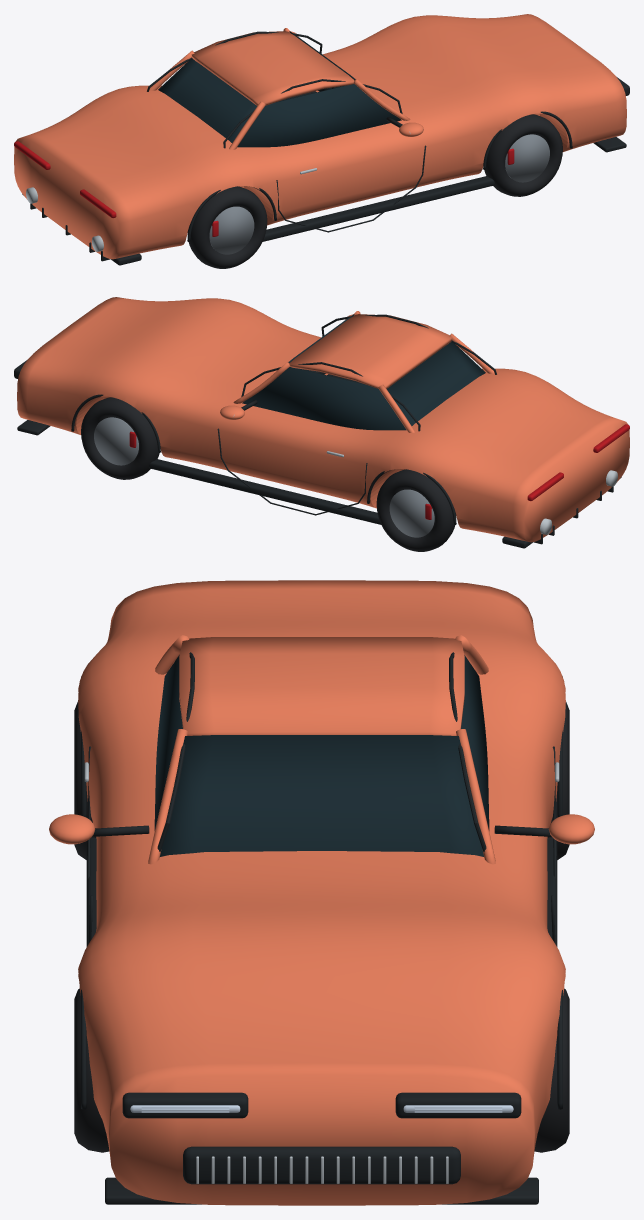
Rendered from vehicle.glb.
3 views of the same model, one above another, from view 1: azimuth 30°, elevation 25°; view 2: azimuth 150°, elevation 25°; view 3: azimuth 270°, elevation 25° (orthographic). The views are drawn at different scales.
Visible parts, largest first — view 1: chassis, roof, side_glass_left, rear_glass, wheel_rear_left, wheel_front_left, sill_left, brake_rear_left, brake_front_left, window_seal_left, window_seal_right, door_seam_left (+2 smaller); view 2: chassis, roof, side_glass_right, rear_glass, wheel_rear_right, wheel_front_right, sill_right, brake_rear_right, brake_front_right, window_seal_right, window_seal_left, door_seam_right (+2 smaller); view 3: chassis, windshield, roof, front_grille, headlamp_surround_left, headlamp_surround_right, wheel_front_left, wheel_front_right, side_glass_left, side_glass_right, front_splitter, a_pillar_left (+9 smaller).
Boxes of the visible parts, x1,y1,x2,y2 form: chassis: (14,14,626,259); roof: (191,31,354,105); side_glass_left: (237,84,401,147); rear_glass: (159,58,256,142); wheel_rear_left: (187,186,267,268); wheel_front_left: (484,114,562,196); sill_left: (262,176,494,241); brake_rear_left: (209,206,254,254); brake_front_left: (505,134,549,182); window_seal_left: (223,79,402,148); window_seal_right: (147,31,322,91); door_seam_left: (276,145,426,232); chassis: (17,297,629,542); roof: (289,314,452,388); side_glass_right: (242,367,406,430); rear_glass: (387,341,484,425); wheel_rear_right: (376,469,456,551); wheel_front_right: (81,397,159,479); sill_right: (149,459,381,524); brake_rear_right: (389,489,434,537); brake_front_right: (94,417,138,465); window_seal_right: (241,362,420,431); window_seal_left: (321,314,496,374); door_seam_right: (217,428,367,515); chassis: (78,580,565,1205); windshield: (160,735,483,856); roof: (179,637,464,735); front_grille: (183,1146,460,1184); headlamp_surround_left: (122,1092,248,1118); headlamp_surround_right: (395,1092,521,1118); wheel_front_left: (74,988,109,1152); wheel_front_right: (534,988,569,1152); side_glass_left: (154,655,182,830); side_glass_right: (461,655,489,830); front_splitter: (105,1177,538,1204); a_pillar_left: (148,729,187,864).
Bounding box in the file's own units: 4.92 × 1.29 × 2.24.
